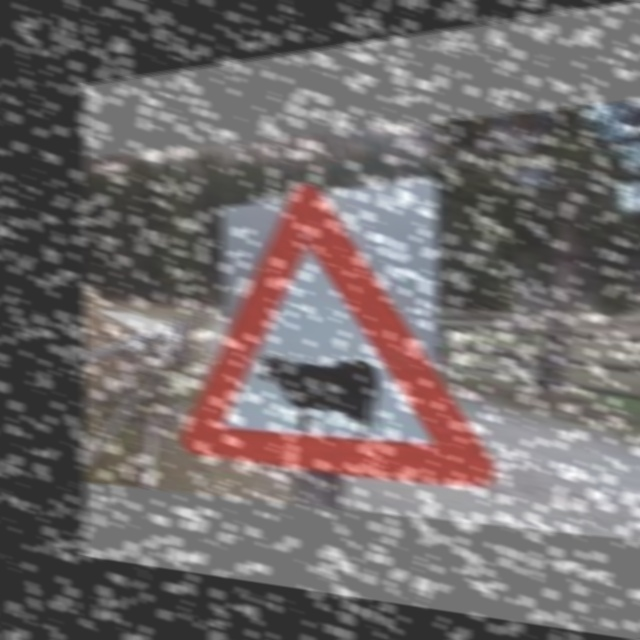Cattle: (185, 184, 480, 490)
